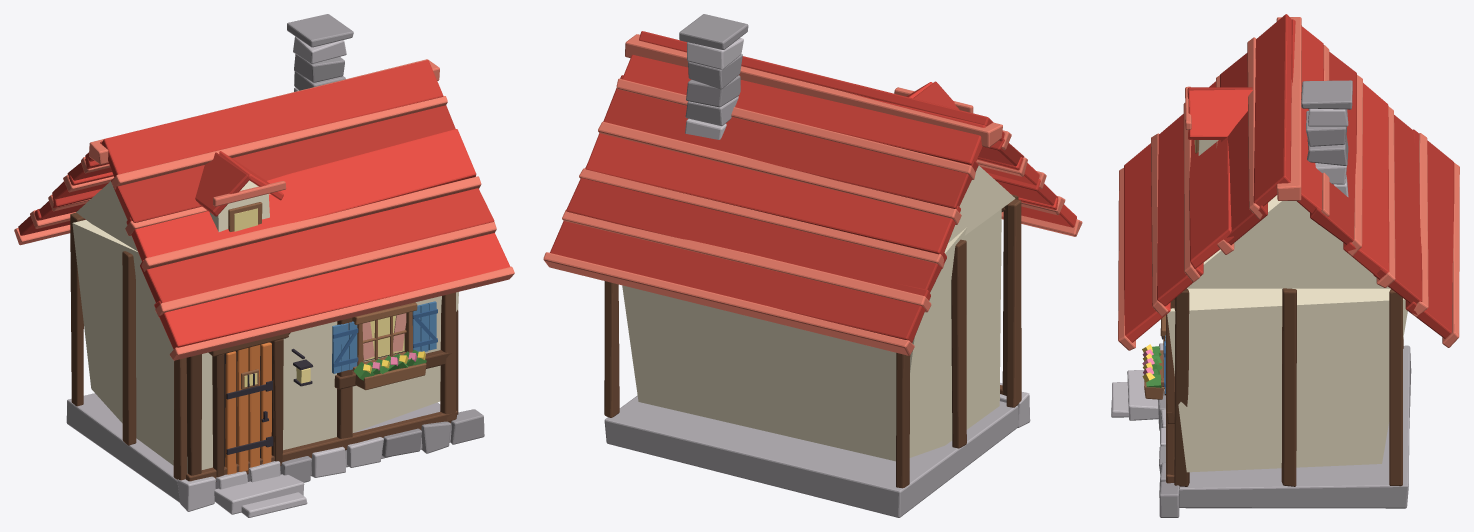
The model's file is cottage.glb.
The picture shows the model from 3 angles, left to right: view 1: azimuth 30°, elevation 25°; view 2: azimuth 150°, elevation 25°; view 3: azimuth 270°, elevation 25°; orthographic projection. The views are drawn at different scales.
Parts seen in each view (by area): view 1: roof_2, roof_1, wall, roof_edge, roof_0, stone_2, timber_1, stone_0, timber_2, timber_0, door, stone_1 (+7 smaller); view 2: wall, roof_0, roof_1, roof_edge, stone_1, timber_2, timber_1, stone_0, stone_2, roof_2, timber_0; view 3: wall, roof_1, roof_0, roof_edge, roof_2, stone_1, stone_0, timber_2, timber_1, stone_2, timber_0, frame.
Boxes of the visible parts, x1=… form: roof_2: x1=126, y1=129, x2=510, y2=349; roof_1: x1=52, y1=60, x2=494, y2=303; wall: x1=72, y1=180, x2=458, y2=473; roof_edge: x1=14, y1=59, x2=514, y2=360; roof_0: x1=18, y1=105, x2=455, y2=235; stone_2: x1=177, y1=36, x2=383, y2=517; timber_1: x1=70, y1=212, x2=452, y2=445; stone_0: x1=280, y1=14, x2=484, y2=482; timber_2: x1=173, y1=292, x2=457, y2=481; timber_0: x1=186, y1=310, x2=458, y2=477; door: x1=225, y1=342, x2=271, y2=474; stone_1: x1=66, y1=87, x2=451, y2=502; wall: x1=622, y1=165, x2=1015, y2=461; roof_0: x1=550, y1=75, x2=1024, y2=342; roof_1: x1=585, y1=31, x2=1057, y2=254; roof_edge: x1=543, y1=34, x2=1082, y2=355; stone_1: x1=604, y1=96, x2=1018, y2=517; timber_2: x1=604, y1=199, x2=1021, y2=417; timber_1: x1=896, y1=194, x2=1018, y2=488; stone_0: x1=679, y1=14, x2=748, y2=107; stone_2: x1=685, y1=38, x2=1030, y2=427; roof_2: x1=906, y1=82, x2=1076, y2=227; timber_0: x1=1002, y1=206, x2=1007, y2=395; wall: x1=1167, y1=140, x2=1407, y2=472; roof_1: x1=1157, y1=14, x2=1389, y2=306; roof_0: x1=1187, y1=52, x2=1454, y2=338; roof_edge: x1=1118, y1=17, x2=1459, y2=350; roof_2: x1=1124, y1=81, x2=1252, y2=342; stone_1: x1=1179, y1=163, x2=1411, y2=508; stone_0: x1=1158, y1=80, x2=1352, y2=517; timber_2: x1=1166, y1=289, x2=1402, y2=486; timber_1: x1=1166, y1=288, x2=1403, y2=486; stone_2: x1=1111, y1=108, x2=1348, y2=446; timber_0: x1=1164, y1=288, x2=1189, y2=486; frame: x1=1144, y1=140, x2=1198, y2=399.
Size of the model in its own units: 6.43 by 6.76 by 5.5.
